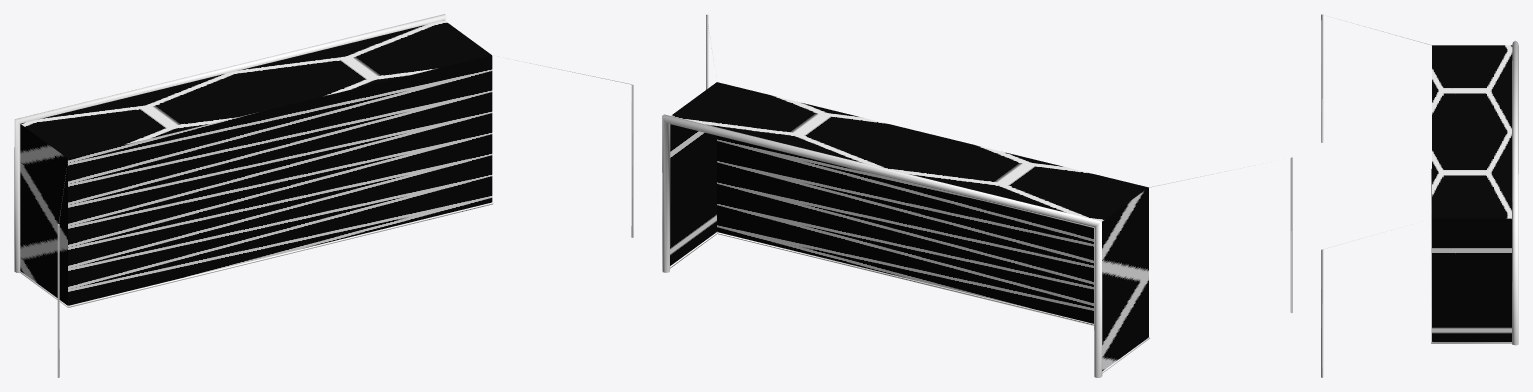
File: soccerGoalNormal.fbx
3 views of the same model, side by side, from view 1: azimuth 30°, elevation 25°; view 2: azimuth 150°, elevation 25°; view 3: azimuth 270°, elevation 25° (orthographic). The views are drawn at different scales.
Parts seen in each view (by area): view 1: NetCube, soccerGoal; view 2: NetCube, soccerGoal; view 3: NetCube, soccerGoal.
Part boxes in pixels (left/top/right/bottom): NetCube: left=20, top=20, right=492, bottom=305; soccerGoal: left=14, top=14, right=633, bottom=377; NetCube: left=670, top=82, right=1148, bottom=371; soccerGoal: left=662, top=14, right=1292, bottom=377; NetCube: left=1432, top=45, right=1512, bottom=342; soccerGoal: left=1321, top=14, right=1518, bottom=377.
Size of the model in its own units: 1011 by 262 by 358.
5 materials, 4 textured.
